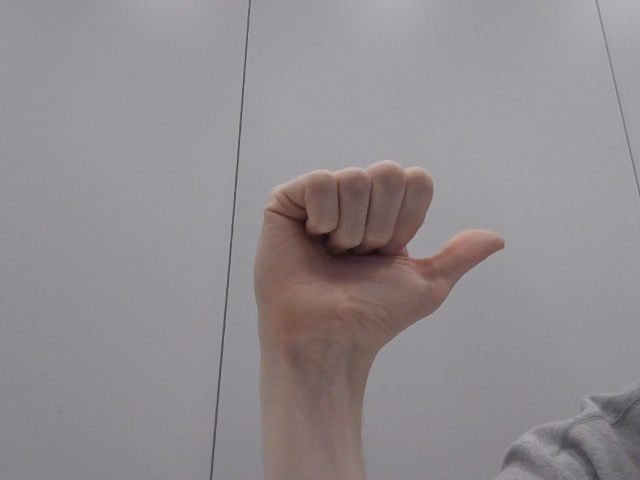left: (233, 148, 509, 382)
